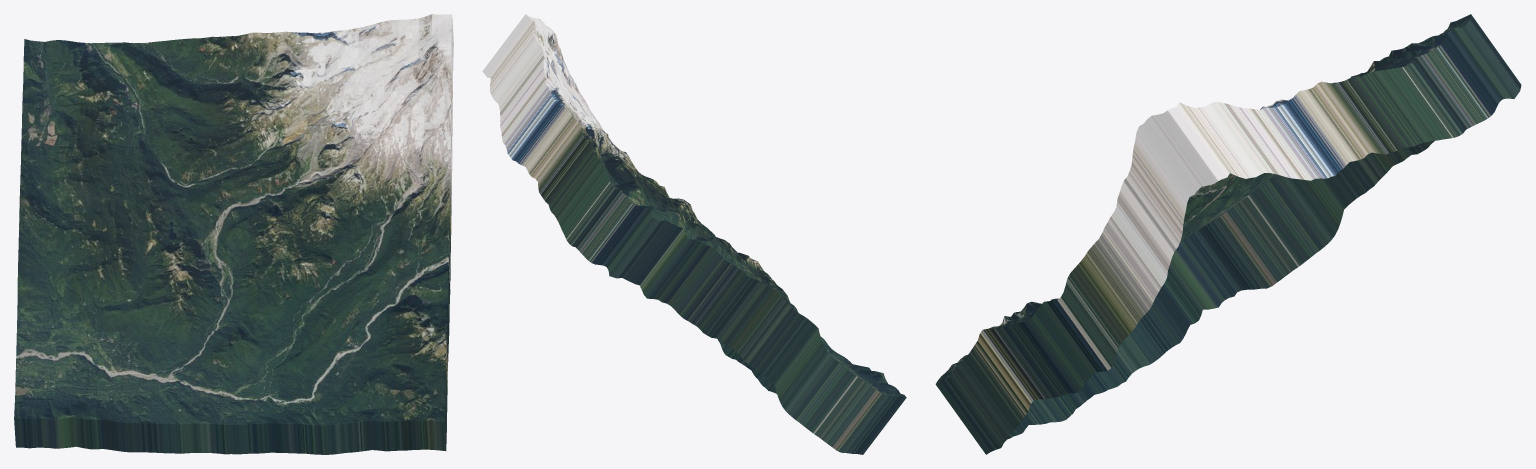
3 views of the same model, side by side, from view 1: azimuth 30°, elevation 25°; view 2: azimuth 150°, elevation 25°; view 3: azimuth 270°, elevation 25° (orthographic). The views are drawn at different scales.
Size of the model in its own units: 19861 by 15365 by 20197.
1 material, 1 textured.
